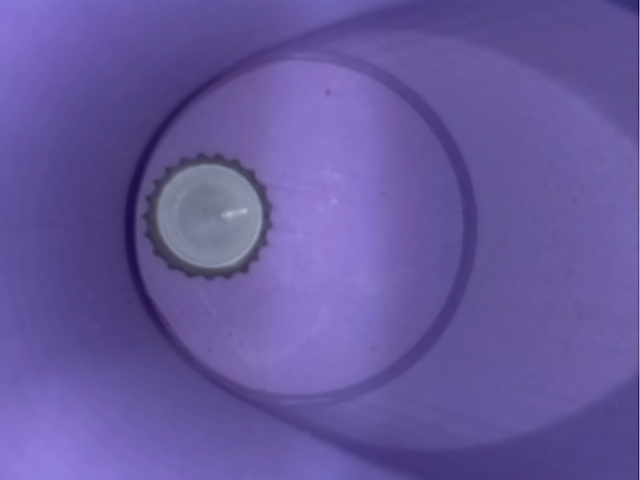capsule: (127, 149, 286, 282)
